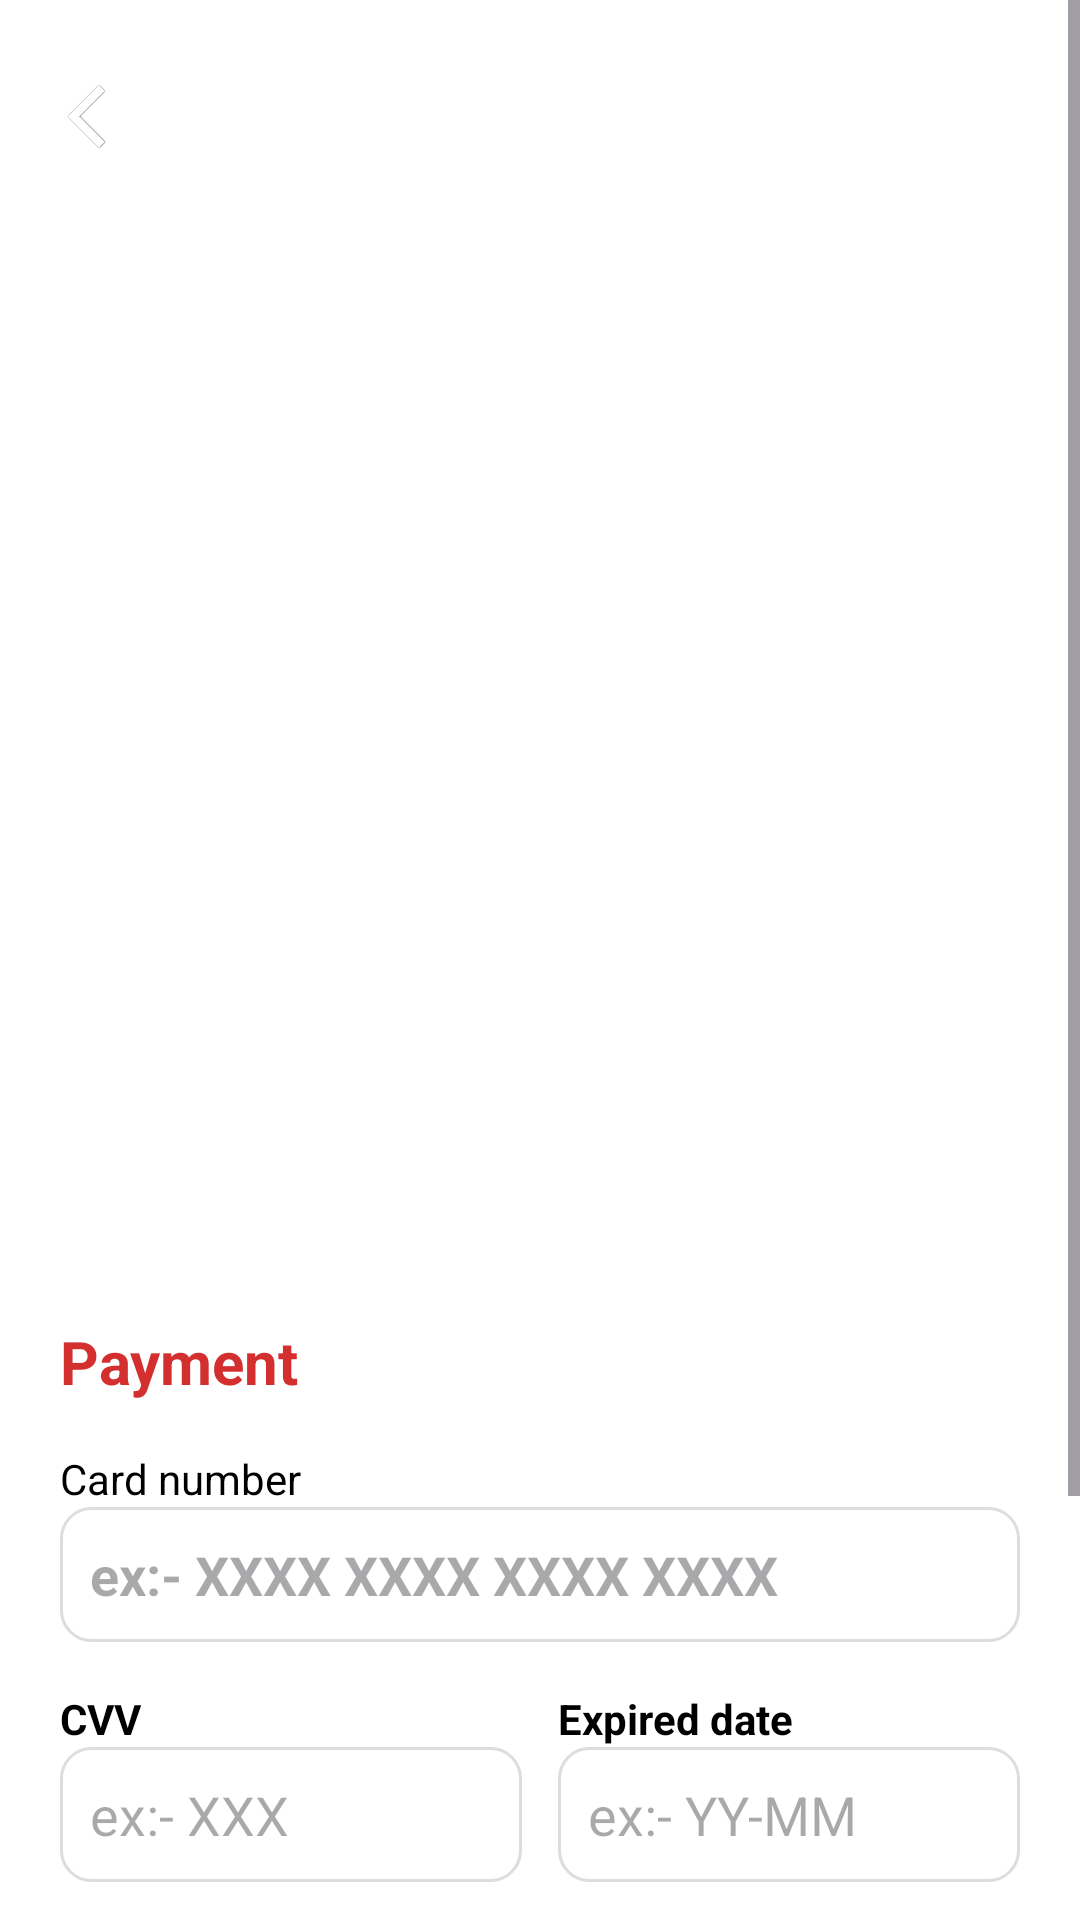

Named icons in this screenshot (1080px×1920px) and their bounding boxes, (x1, y1, x2, y2):
back: (68, 85, 105, 148)
